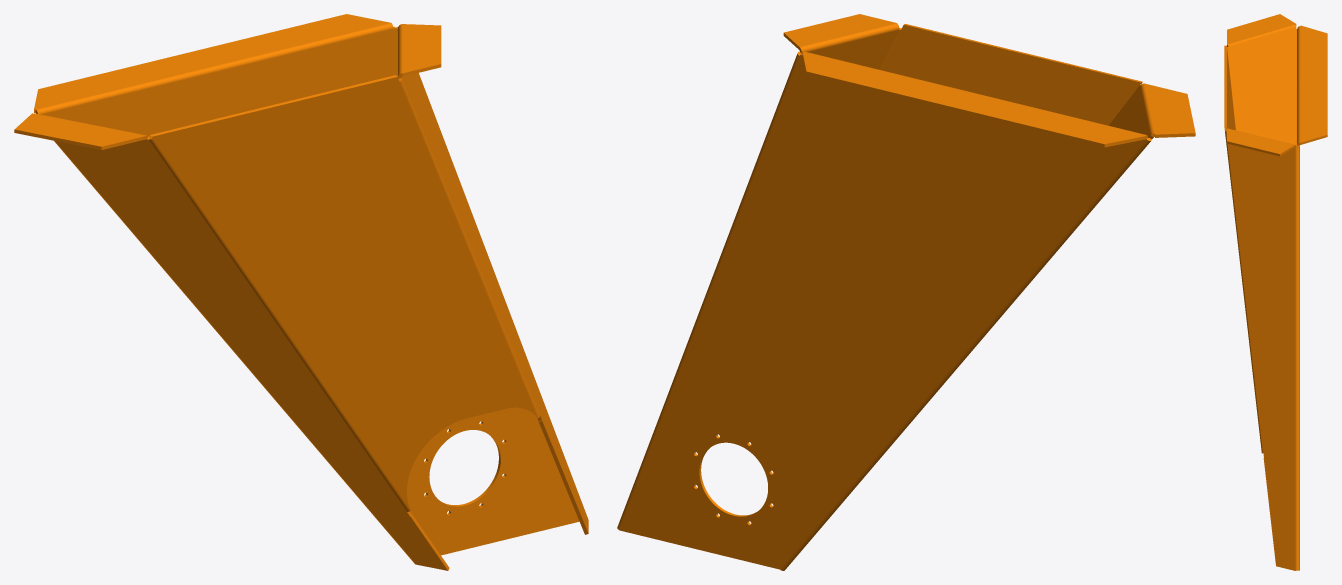
File: Legs_v1-Leg_R-L.dae
The picture shows the model from 3 angles, left to right: view 1: azimuth 30°, elevation 25°; view 2: azimuth 150°, elevation 25°; view 3: azimuth 270°, elevation 25°; orthographic projection. The views are drawn at different scales.
Parts seen in each view (by area): view 1: 5d3794bac0e79015cfd1d28a; view 2: 5d3794bac0e79015cfd1d28a; view 3: 5d3794bac0e79015cfd1d28a.
Part boxes in pixels (bbox=[...]): 5d3794bac0e79015cfd1d28a: bbox=[14, 14, 588, 570]; 5d3794bac0e79015cfd1d28a: bbox=[617, 14, 1195, 570]; 5d3794bac0e79015cfd1d28a: bbox=[1224, 14, 1327, 570].
Size of the model in its own units: 0.574 by 0.1302 by 0.5099.
